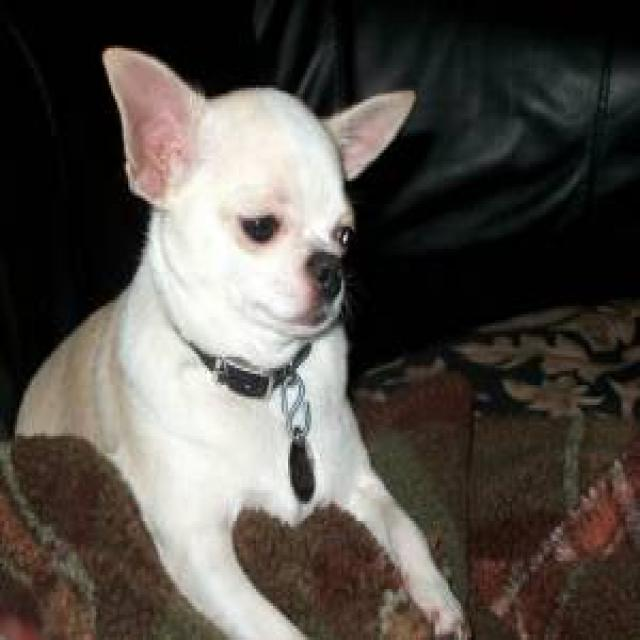dog-chihuahua: (11, 37, 463, 634)
